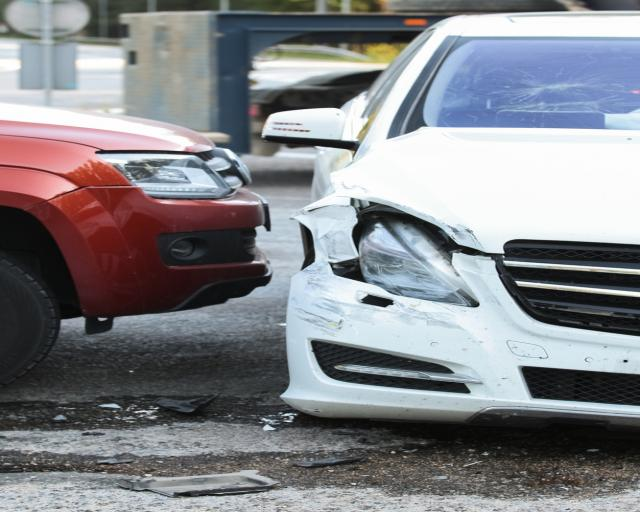dent: (304, 201, 360, 261)
glass shatter: (422, 39, 640, 131)
scratch: (294, 262, 467, 337)
